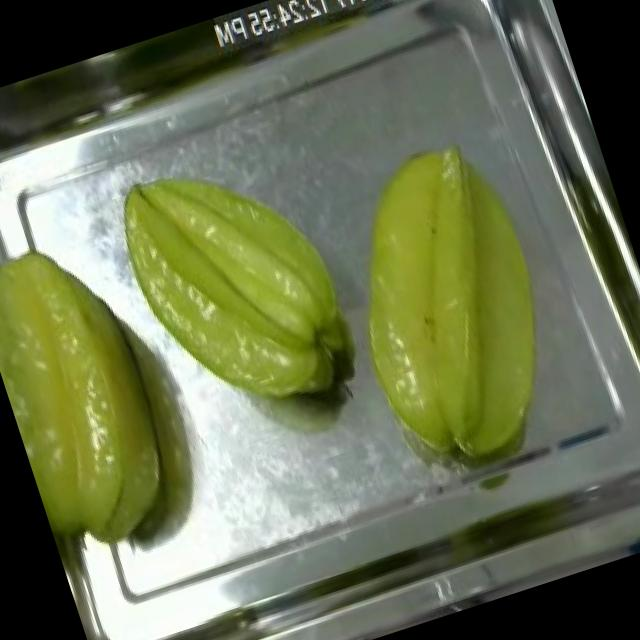fruit: (296, 110, 602, 498), (94, 120, 387, 452), (0, 217, 210, 567)
